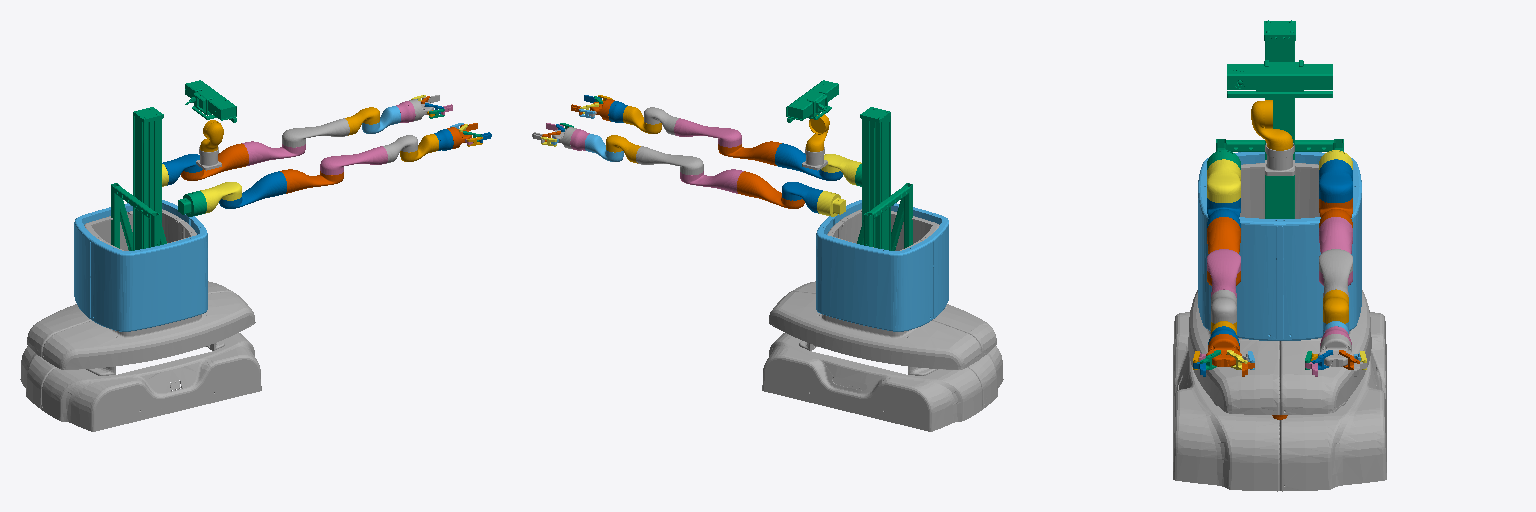
--- Facts derived from the render (not from the file) ---
Views: 3 orthographic renders of the robot side by side, from view 1: azimuth 30°, elevation 25°; view 2: azimuth 150°, elevation 25°; view 3: azimuth 270°, elevation 25°.
Model movo with 56 links and 55 joints (20 revolute, 8 continuous, 2 prismatic, 25 fixed), rooted at base_link, posed all joints at 0.
Links seen in each view (by area): view 1: lower_body_link, mid_body_link, linear_actuator_fixed_link, kinect2_link, right_arm_half_1_link, left_forearm_link, right_forearm_link, left_arm_half_1_link, right_arm_half_2_link, left_arm_half_2_link, right_shoulder_link, left_shoulder_link (+6 smaller); view 2: lower_body_link, mid_body_link, linear_actuator_fixed_link, kinect2_link, left_arm_half_1_link, left_forearm_link, right_forearm_link, right_arm_half_1_link, left_arm_half_2_link, right_arm_half_2_link, left_shoulder_link, right_shoulder_link (+6 smaller); view 3: lower_body_link, mid_body_link, linear_actuator_fixed_link, kinect2_link, left_shoulder_link, right_shoulder_link, right_forearm_link, left_forearm_link, pan_link, left_arm_half_2_link, right_arm_half_2_link, left_wrist_spherical_1_link (+6 smaller).
Boxes of the visible links, bbox=[...] form: lower_body_link: bbox=[20, 209, 261, 431]; mid_body_link: bbox=[74, 200, 207, 331]; linear_actuator_fixed_link: bbox=[111, 107, 166, 250]; kinect2_link: bbox=[185, 80, 236, 122]; right_arm_half_1_link: bbox=[219, 171, 286, 208]; left_forearm_link: bbox=[282, 118, 349, 147]; right_forearm_link: bbox=[320, 146, 387, 174]; left_arm_half_1_link: bbox=[181, 143, 248, 180]; right_arm_half_2_link: bbox=[280, 169, 343, 193]; left_arm_half_2_link: bbox=[242, 141, 305, 165]; right_shoulder_link: bbox=[200, 182, 241, 213]; left_shoulder_link: bbox=[162, 154, 202, 185]; lower_body_link: bbox=[762, 209, 1003, 431]; mid_body_link: bbox=[816, 200, 948, 331]; linear_actuator_fixed_link: bbox=[857, 107, 912, 250]; kinect2_link: bbox=[786, 80, 838, 122]; left_arm_half_1_link: bbox=[737, 171, 804, 208]; left_forearm_link: bbox=[636, 146, 703, 174]; right_forearm_link: bbox=[674, 118, 741, 147]; right_arm_half_1_link: bbox=[775, 143, 842, 180]; left_arm_half_2_link: bbox=[680, 169, 743, 193]; right_arm_half_2_link: bbox=[718, 141, 781, 165]; left_shoulder_link: bbox=[782, 182, 822, 213]; right_shoulder_link: bbox=[821, 154, 861, 185]; lower_body_link: bbox=[1173, 163, 1386, 491]; mid_body_link: bbox=[1198, 152, 1361, 340]; linear_actuator_fixed_link: bbox=[1216, 20, 1343, 218]; kinect2_link: bbox=[1227, 60, 1332, 97]; left_shoulder_link: bbox=[1319, 159, 1352, 202]; right_shoulder_link: bbox=[1207, 159, 1240, 202]; right_forearm_link: bbox=[1207, 249, 1240, 297]; left_forearm_link: bbox=[1319, 249, 1352, 297]; pan_link: bbox=[1251, 100, 1292, 150]; left_arm_half_2_link: bbox=[1319, 217, 1352, 285]; right_arm_half_2_link: bbox=[1207, 217, 1240, 285]; left_wrist_spherical_1_link: bbox=[1323, 289, 1348, 323].
Bounding box of the posed robot: 1.71 × 0.5097 × 1.06 m (x, y, z).
44 mesh visuals loaded from 25 distinct referenced files (21 binary STL); not drawn: 4 (reference not matched to a file when rendering).

The robot description file, URDF, robot "movo":
<?xml version="1.0" ?>

<!-- ================================================================================================ -->
<!-- Note: This URDF file and associated content are based on files from the GitHub repository below. -->
<!--       Geometry files were converted as necessary to a format supported by Simscape Multibody.    -->
<!--       Adjustments were made to the URDF file for compatibility with Simscape Multibody.          -->
<!--                                                                                                  -->
<!--  GitHub source: https://github.com/Kinovarobotics/kinova-movo/tree/v1.1.0                        -->
<!-- ================================================================================================ -->

<!-- =================================================================================== -->
<!-- |    This document was autogenerated by xacro from movo.urdf.xacro                | -->
<!-- |    EDITING THIS FILE BY HAND IS NOT RECOMMENDED                                 | -->
<!-- =================================================================================== -->
<!--
Software License Agreement (BSD)
\file      movo.urdf.xacro
\authors   Patrick Hussey
\copyright Copyright (c) 2017, Kinova Robotics inc. All rights reserved.
Redistribution and use in source and binary forms, with or without modification,
are permitted provided that the following conditions are met:
    * Redistributions of source code must retain the above copyright notice,
      this list of conditions and the following disclaimer.
    * Redistributions in binary form must reproduce the above copyright notice,
      this list of conditions and the following disclaimer in the documentation
      and/or other materials provided with the distribution.
    * Neither the name of the copyright holder nor the names of its contributors
      may be used to endorse or promote products derived from this software
      without specific prior written permission.
THIS SOFTWARE IS PROVIDED BY THE COPYRIGHT HOLDERS AND CONTRIBUTORS 
"AS IS" AND ANY EXPRESS OR IMPLIED WARRANTIES, INCLUDING, BUT NOT 
LIMITED TO, THE IMPLIED WARRANTIES OF MERCHANTABILITY AND FITNESS FOR 
A PARTICULAR PURPOSE ARE DISCLAIMED. IN NO EVENT SHALL THE COPYRIGHT HOLDER OR 
CONTRIBUTORS BE LIABLE FOR ANY DIRECT, INDIRECT, INCIDENTAL, SPECIAL, 
EXEMPLARY, OR CONSEQUENTIAL DAMAGES (INCLUDING, BUT NOT LIMITED TO, 
PROCUREMENT OF SUBSTITUTE GOODS OR SERVICES; LOSS OF USE, DATA, OR 
PROFITS; OR BUSINESS INTERRUPTION) HOWEVER CAUSED AND ON ANY THEORY OF 
LIABILITY, WHETHER IN CONTRACT, STRICT LIABILITY, OR TORT (INCLUDING 
NEGLIGENCE OR OTHERWISE) ARISING IN ANY WAY OUT OF THE USE OF THIS 
SOFTWARE, EVEN IF ADVISED OF THE POSSIBILITY OF SUCH DAMAGE.
-->
<robot name="movo" xmlns:xacro="http://ros.org/wiki/xacro">
  <!-- Included URDF/XACRO Files -->
  <gazebo>
    <plugin filename="libgazebo_ros_control.so" name="gazebo_ros_control">
      <robotNamespace>/</robotNamespace>
    </plugin>
    <plugin filename="libgazebo_ros_force_based_move.so" name="object_controller">
      <robotNamespace>/</robotNamespace>
      <commandTopic>/movo/cmd_vel</commandTopic>
      <odometryTopic>/movo/odometry/wheel_odometry</odometryTopic>
      <odometryFrame>odom</odometryFrame>
      <odometryRate>100.0</odometryRate>
      <cmdVelTimeOut>0.2</cmdVelTimeOut>
      <robotBaseFrame>base_link</robotBaseFrame>
      <publishOdometryTf>0</publishOdometryTf>
      <yaw_velocity_p_gain>500.0</yaw_velocity_p_gain>
      <x_velocity_p_gain>10000.0</x_velocity_p_gain>
      <y_velocity_p_gain>10000.0</y_velocity_p_gain>
    </plugin>
    <plugin filename="libgazebo_ros_p3d.so" name="gazebo_ros_p3d">
      <bodyName>base_link</bodyName>
      <topicName>ground_truth_odom</topicName>
      <alwaysOn>true</alwaysOn>
      <updateRate>100.0</updateRate>
    </plugin>
  </gazebo>
  <!-- Base link is the center of the robot's chassis between the motors projected on the ground -->
  <link name="base_link"/>
  <gazebo reference="base_link">
    <mu1>0.0</mu1>
  </gazebo>
  <joint name="base_chassis_joint" type="fixed">
    <origin rpy="0 0 0" xyz="0 0 0.0762"/>
    <parent link="base_link"/>
    <child link="base_chassis_link"/>
  </joint>
  <link name="base_chassis_link">
    <inertial>
      <mass value="44.2877"/>
      <origin xyz="-0.009506 -0.013039 0.032319"/>
      <inertia ixx="0.000165" ixy="0" ixz="0" iyx="0" iyy="0.000559" iyz="0" izx="0" izy="0" izz="0.000714"/>
    </inertial>
    <collision>
      <geometry>
        <mesh filename="package://movo_description/meshes/movo_components/collision/vector_base_collision.stl"/>
      </geometry>
    </collision>
    <visual>
      <origin rpy="0 0 0" xyz="0 0 0"/>
      <geometry>
        <mesh filename="movo_vector_base.stl"/>
      </geometry>
    </visual>
  </link>
  <gazebo reference="base_chassis_link">
    <laserRetro>0</laserRetro>
  </gazebo>
  <gazebo reference="base_chassis_link">
    <mu1>0.0</mu1>
  </gazebo>
  <joint name="linear_actuator_fixed_joint" type="fixed">
    <origin rpy="0 0 0" xyz="0 0 0"/>
    <parent link="base_chassis_link"/>
    <child link="linear_actuator_fixed_link"/>
  </joint>
  <link name="linear_actuator_fixed_link">
    <inertial>
      <mass value="15.877331"/>
      <origin xyz="0.013724 0.000002 0.509500"/>
      <inertia ixx="0.962473" ixy="0.000047" ixz="0.053722" iyx="0.000047" iyy="0.968691" iyz="-0.000058" izx="0.053722" izy="-0.000058" izz="0.098853"/>
    </inertial>
    <collision>
      <geometry>
        <mesh filename="package://movo_description/meshes/movo_components/collision/movo_fixed_body_collision.stl"/>
      </geometry>
    </collision>
    <visual>
      <origin rpy="0 0 0" xyz="0 0 0"/>
      <geometry>
        <mesh filename="movo_fixed_payload.stl"/>
      </geometry>
    </visual>
  </link>
  <gazebo reference="linear_actuator_fixed_link">
    <laserRetro>0</laserRetro>
  </gazebo>
  <joint name="linear_joint" type="prismatic">
    <parent link="linear_actuator_fixed_link"/>
    <child link="linear_actuator_link"/>
    <origin rpy="0 0 0" xyz="0.0771402 0 0.3938763"/>
    <axis xyz="0 0 1"/>
    <limit effort="1000" lower="0.0" upper="0.472" velocity="0.20"/>
    <dynamics damping="0.0" friction="0.0"/>
  </joint>
  <link name="linear_actuator_link">
    <visual>
      <geometry>
        <mesh filename="movo_moving_payload.stl"/>
      </geometry>
    </visual>
    <collision>
      <geometry>
        <mesh filename="package://movo_description/meshes/movo_components/collision/movo_upper_body_collision.stl"/>
      </geometry>
    </collision>
    <inertial>
      <mass value="12.926242"/>
      <origin xyz="-0.075467 -0.004693 0.397754"/>
      <inertia ixx="0.300410" ixy="-0.010043" ixz="-0.054146" iyx="-0.010043" iyy="0.296460" iyz="-0.024977" izx="-0.054146" izy="-0.024977" izz="0.294778"/>
    </inertial>
  </link>
  <gazebo reference="linear_actuator_link">
    <laserRetro>0</laserRetro>
  </gazebo>
  <transmission name="linear_trans">
    <type>transmission_interface/SimpleTransmission</type>
    <joint name="linear_joint">
      <hardwareInterface>PositionJointInterface</hardwareInterface>
    </joint>
    <actuator name="linear_motor">
      <mechanicalReduction>1</mechanicalReduction>
    </actuator>
  </transmission>
  <link name="sic_imu_frame"/>
  <joint name="sic_imu_joint" type="fixed">
    <origin rpy="3.14159 0 1.570795" xyz="0.0326421 0.0899448 0.0082008"/>
    <parent link="base_chassis_link"/>
    <child link="sic_imu_frame"/>
  </joint>
  <gazebo>
    <plugin filename="libhector_gazebo_ros_imu.so" name="sic_imu_controller">
      <alwaysOn>1</alwaysOn>
      <updateRate>50.0</updateRate>
      <bodyName>sic_imu_frame</bodyName>
      <topicName>/movo/feedback/sic_imu</topicName>
      <accelDrift>0.0005 0.0005 0.0005</accelDrift>
      <accelGaussianNoise>0.0005 0.0005 0.0005</accelGaussianNoise>
      <rateDrift>0.0005 0.0005 0.0005</rateDrift>
      <rateGaussianNoise>0.00005 0.00005 0.00005 </rateGaussianNoise>
      <headingDrift>0.00005</headingDrift>
      <headingGaussianNoise>0.00005</headingGaussianNoise>
    </plugin>
  </gazebo>
  <joint name="front_laser_joint" type="fixed">
    <origin rpy="3.14159 0 0" xyz="0.3375 0 0.1439106"/>
    <parent link="base_chassis_link"/>
    <child link="front_laser_link"/>
  </joint>
  <link name="front_laser_link">
    <visual>
      <geometry>
        <mesh filename="movo_sick_tim.stl"/>
      </geometry>
    </visual>
    <collision>
      <geometry>
        <box size="0.1 0.1 0.1"/>
      </geometry>
    </collision>
  </link>
  <gazebo reference="front_laser_link">
    <sensor name="front_laser" type="ray">
      <pose>0 0 0 0 0 0</pose>
      <visualize>false</visualize>
      <update_rate>15</update_rate>
      <ray>
        <scan>
          <horizontal>
            <samples>720</samples>
            <resolution>1</resolution>
            <min_angle>-2.0</min_angle>
            <max_angle>2.0</max_angle>
          </horizontal>
        </scan>
        <range>
          <min>0.1</min>
          <max>25.0</max>
          <resolution>0.01</resolution>
        </range>
        <noise>
          <type>gaussian</type>
          <mean>0.0</mean>
          <stddev>0.01</stddev>
        </noise>
      </ray>
      <plugin filename="libgazebo_ros_laser.so" name="front_laser_node">
        <topicName>/movo/front_scan</topicName>
        <frameName>front_laser_link</frameName>
      </plugin>
    </sensor>
  </gazebo>
  <joint name="rear_laser_joint" type="fixed">
    <origin rpy="3.14159 0 3.14159" xyz="-0.3375 0 0.1439106"/>
    <parent link="base_chassis_link"/>
    <child link="rear_laser_link"/>
  </joint>
  <link name="rear_laser_link">
    <visual>
      <geometry>
        <mesh filename="movo_sick_tim.stl"/>
      </geometry>
    </visual>
    <collision>
      <geometry>
        <box size="0.1 0.1 0.1"/>
      </geometry>
    </collision>
  </link>
  <gazebo reference="rear_laser_link">
    <sensor name="rear_laser" type="ray">
      <pose>0 0 0 0 0 0</pose>
      <visualize>false</visualize>
      <update_rate>15</update_rate>
      <ray>
        <scan>
          <horizontal>
            <samples>720</samples>
            <resolution>1</resolution>
            <min_angle>-2.0</min_angle>
            <max_angle>2.0</max_angle>
          </horizontal>
        </scan>
        <range>
          <min>0.1</min>
          <max>25.0</max>
          <resolution>0.01</resolution>
        </range>
        <noise>
          <type>gaussian</type>
          <mean>0.0</mean>
          <stddev>0.01</stddev>
        </noise>
      </ray>
      <plugin filename="libgazebo_ros_laser.so" name="rear_laser_node">
        <topicName>/movo/rear_scan</topicName>
        <frameName>rear_laser_link</frameName>
      </plugin>
    </sensor>
  </gazebo>
  <joint name="pan_base_joint" type="fixed">
    <origin rpy="0 0 0" xyz="0.19735 0 0.3449888"/>
    <parent link="linear_actuator_link"/>
    <child link="pan_base_link"/>
  </joint>
  <link name="pan_base_link">
    <visual>
      <geometry>
        <mesh filename="movo_pan_tilt_base.stl"/>
      </geometry>
    </visual>
    <collision>
      <geometry>
        <mesh filename="package://movo_description/meshes/pan_tilt/collision/pan_tilt_base.stl"/>
      </geometry>
    </collision>
    <inertial>
      <mass value="0.271282"/>
      <origin xyz="0.000098 -0.000007 0.034804"/>
      <inertia ixx="0.000158" ixy="0.000000" ixz="-0.000001" iyx="0.000000" iyy="0.000151" iyz="0.000000" izx="-0.000001" izy="0.000000" izz="0.000150"/>
    </inertial>
  </link>
  <joint name="pan_joint" type="revolute">
    <origin rpy="3.14159 0 0" xyz="0 0 0.05525"/>
    <axis xyz="0 0 1"/>
    <parent link="pan_base_link"/>
    <child link="pan_link"/>
    <limit effort="7.0" lower="-1.570796326794897" upper="1.570796326794897" velocity="0.907571211"/>
  </joint>
  <transmission name="pan_trans" type="SimpleTransmission">
    <type>transmission_interface/SimpleTransmission</type>
    <joint name="pan_joint">
      <hardwareInterface>PositionJointInterface</hardwareInterface>
    </joint>
    <actuator name="pan_actuator">
      <mechanicalReduction>1</mechanicalReduction>
    </actuator>
  </transmission>
  <link name="pan_link">
    <visual>
      <geometry>
        <mesh filename="movo_pan_link.stl"/>
      </geometry>
    </visual>
    <collision>
      <origin rpy="0 0 0" xyz="0 0 0"/>
      <geometry>
        <mesh filename="package://movo_description/meshes/pan_tilt/collision/pan_link.stl"/>
      </geometry>
    </collision>
    <inertial>
      <mass value="0.470548"/>
      <origin xyz="-0.000036 0.021015 -0.052191"/>
      <inertia ixx="0.000957" ixy="0.000000" ixz="0.000000" iyx="0.000000" iyy="0.000805" iyz="-0.000328" izx="0.000000" izy="-0.000328" izz="0.000353"/>
    </inertial>
  </link>
  <joint name="tilt_joint" type="revolute">
    <origin rpy="-1.570795 1.570795 0" xyz="0 0.026 -0.09075"/>
    <axis xyz="0 0 1"/>
    <parent link="pan_link"/>
    <child link="tilt_link"/>
    <limit effort="7.0" lower="-1.570796326794897" upper="1.570796326794897" velocity="0.907571211"/>
  </joint>
  <transmission name="tilt_trans" type="SimpleTransmission">
    <type>transmission_interface/SimpleTransmission</type>
    <joint name="tilt_joint">
      <hardwareInterface>PositionJointInterface</hardwareInterface>
    </joint>
    <actuator name="tilt_actuator">
      <mechanicalReduction>1</mechanicalReduction>
    </actuator>
  </transmission>
  <link name="tilt_link">
    <visual>
      <geometry>
        <mesh filename="movo_tilt_link.stl"/>
      </geometry>
    </visual>
    <collision>
      <geometry>
        <mesh filename="package://movo_description/meshes/pan_tilt/collision/tilt_link.stl"/>
      </geometry>
    </collision>
    <inertial>
      <mass value="0.434513"/>
      <origin xyz="0.037380 0.005753 -0.019367"/>
      <inertia ixx="0.000418" ixy="0.000123" ixz="-0.000065" iyx="0.000123" iyy="0.001134" iyz="-0.000003" izx="-0.000065" izy="-0.000003" izz="0.000967"/>
    </inertial>
  </link>
  <joint name="kinect2_joint" type="fixed">
    <origin rpy="-1.570795 0 -1.570795" xyz="0.05825 -0.0105875 -0.026"/>
    <parent link="tilt_link"/>
    <child link="kinect2_link"/>
  </joint>
  <link name="kinect2_link">
    <inertial>
      <mass value="1.4"/>
      <origin xyz="-0.000036 0.021015 -0.052191"/>
      <inertia ixx="0.0006835" ixy="-0.000042" ixz="0.000010" iyx="-0.000042" iyy="0.001197" iyz="0.000006" izx="0.000010" izy="0.000006" izz="0.007020"/>
    </inertial>
    <visual>
      <geometry>
        <mesh filename="movo_kinect_one.stl"/>
      </geometry>
    </visual>
    <collision>
      <geometry>
        <mesh filename="package://movo_description/meshes/sensors/collision/kinect_one_collision.stl"/>
      </geometry>
    </collision>
  </link>
  <link name="kinect2_ir_link"/>
  <joint name="kinect2_ir_joint" type="fixed">
    <parent link="kinect2_link"/>
    <child link="kinect2_ir_link"/>
    <origin rpy="0 0 0" xyz="0.0245 -0.03325  0.04201"/>
  </joint>
  <link name="kinect2_ir_optical_frame"/>
  <joint name="kinect2_ir_optical_frame_joint" type="fixed">
    <origin rpy="-1.570795 0 -1.570795" xyz="0 0 0"/>
    <parent link="kinect2_ir_link"/>
    <child link="kinect2_ir_optical_frame"/>
  </joint>
  <link name="kinect2_rgb_link"/>
  <joint name="kinect2_rgb_joint" type="fixed">
    <parent link="kinect2_ir_link"/>
    <child link="kinect2_rgb_link"/>
    <origin rpy="0 0 0" xyz="0 -0.06175  0"/>
  </joint>
  <link name="kinect2_rgb_optical_frame"/>
  <joint name="kinect2_rgb_optical_joint" type="fixed">
    <parent link="kinect2_rgb_link"/>
    <child link="kinect2_rgb_optical_frame"/>
    <origin rpy="-1.570795 0 -1.570795" xyz="0 0 0"/>
  </joint>
  <gazebo reference="kinect2_ir_link">
    <sensor name="kinect2_ir_sensor" type="depth">
      <always_on>true</always_on>
      <update_rate>30.0</update_rate>
      <camera>
        <horizontal_fov>1.22172944444</horizontal_fov>
        <image>
          <format>L8</format>
          <width>512</width>
          <height>424</height>
        </image>
        <clip>
          <near>0.01</near>
          <far>100</far>
        </clip>
      </camera>
      <plugin filename="libgazebo_ros_openni_kinect.so" name="kinect2_ir_link_controller">
        <baseline>0.2</baseline>
        <alwaysOn>true</alwaysOn>
        <updateRate>1.0</updateRate>
        <cameraName>kinect2/sd/image_ir</cameraName>
        <imageTopicName>/kinect2/sd/image_ir</imageTopicName>
        <cameraInfoTopicName>/kinect2/sd/camera_info</cameraInfoTopicName>
        <depthImageTopicName>/kinect2/sd/image_depth</depthImageTopicName>
        <depthImageCameraInfoTopicName>/kinect2/sd/depth/camera_info</depthImageCameraInfoTopicName>
        <pointCloudTopicName>/kinect2/sd/points</pointCloudTopicName>
        <frameName>kinect2_ir_optical_frame</frameName>
        <pointCloudCutoff>0.1</pointCloudCutoff>
        <pointCloudCutoffMax>12.0</pointCloudCutoffMax>
        <distortionK1>0.0</distortionK1>
        <distortionK2>0.0</distortionK2>
        <distortionK3>0.0</distortionK3>
        <distortionT1>0.0</distortionT1>
        <distortionT2>0.0</distortionT2>
        <CxPrime>0</CxPrime>
        <Cx>0</Cx>
        <Cy>0</Cy>
        <focalLength>0</focalLength>
        <hackBaseline>0</hackBaseline>
      </plugin>
    </sensor>
    <material value="Gazebo/Red"/>
  </gazebo>
   <joint name="lower_body_joint" type="fixed">
    <origin rpy="0 0 0" xyz="0 0 0"/>
    <parent link="base_chassis_link"/>
    <child link="lower_body_link"/>
  </joint>
  <link name="lower_body_link">
    <inertial>
      <mass value="7.753378"/>
      <origin xyz="0.000143 0.000727 0.188079"/>
      <inertia ixx="0.339365" ixy="0.000325" ixz="0.000146" iyx="0.000325" iyy="0.590290" iyz="-0.001078" izx="0.000146" izy="-0.001078" izz="0.588946"/>
    </inertial>
    <visual>
      <origin rpy="0 0 0" xyz="0 0 0"/>
      <geometry>
        <mesh filename="movo_lower_body.stl"/>
      </geometry>
    </visual>
  </link>
  <joint name="upper_body_joint" type="fixed">
    <origin rpy="0 0 0" xyz="0 0 0"/>
    <parent link="linear_actuator_link"/>
    <child link="upper_body_link"/>
  </joint>
  <link name="upper_body_link">
    <inertial>
      <mass value="6.246912"/>
      <origin xyz="-0.080608 0.000290 0.286026"/>
      <inertia ixx="0.425973" ixy="0.000022" ixz="-0.015916" iyx="0.000022" iyy="0.439921" iyz="-0.000555" izx="-0.015916" izy="-0.000555" izz="0.305785"/>
    </inertial>
    <visual>
      <origin rpy="0 0 0" xyz="0 0 0"/>
      <geometry>
        <mesh filename="movo_upper_body.stl"/>
      </geometry>
    </visual>
  </link>
  <joint name="mid_body_joint" type="prismatic">
    <parent link="base_chassis_link"/>
    <child link="mid_body_link"/>
    <origin rpy="0 0 0" xyz="0.0771402 0 0.3938763"/>
    <axis xyz="0 0 1"/>
    <limit effort="1000" lower="0.0" upper="0.2545608" velocity="0.20"/>
    <dynamics damping="0.0" friction="0.0"/>
    <mimic joint="linear_joint" multiplier="0.5" offset="0.0"/>
  </joint>
  <link name="mid_body_link">
    <inertial>
      <mass value="2.246837"/>
      <origin xyz="-0.077140 0.000000 0.026602"/>
      <inertia ixx="0.067276" ixy="0.000000" ixz="0.000000" iyx="0.000000" iyy="0.073946" iyz="0.000000" izx="0.000000" izy="0.000000" izz="0.102656"/>
    </inertial>
    <visual>
      <origin rpy="0 0 0" xyz="0 0 0"/>
      <geometry>
        <mesh filename="movo_mid_body.stl"/>
      </geometry>
    </visual>
  </link>
  <gazebo reference="mid_body_link">
    <gravity>0</gravity>
  </gazebo>
  <gazebo>
    <!-- loading plugin: mimic joints works in gazebo now -->
    <plugin filename="libroboticsgroup_gazebo_mimic_joint_plugin.so" name="mid_body_mimic">
      <joint>linear_joint</joint>
      <mimicJoint>mid_body_joint</mimicJoint>
      <multiplier>0.5</multiplier>
      <offset>0.0</offset>
      <maxEffort>100000.0</maxEffort>
    </plugin>
  </gazebo>
 <joint name="right_kinova_joint" type="fixed">
    <parent link="linear_actuator_link"/>
    <child link="right_base_link"/>
    <origin rpy="-1.570796325 0 -1.570796325" xyz="0.0261046 -0.13335 0.2799937"/>
  </joint>
  <link name="right_base_link">
    <visual>
      <geometry>
        <mesh filename="movo_base.stl"/>
      </geometry>
    </visual>
    <collision>
      <geometry>
        <mesh filename="package://movo_description/meshes/manipulation/jaco/collision/base.stl"/>
      </geometry>
    </collision>
    <inertial>
      <mass value="0.649618"/>
      <origin xyz="-0.000146 0.0 0.031039"/>
      <inertia ixx="0.000652" ixy="-0.000000" ixz="0.000001" iyx="0.000000" iyy="0.000646" iyz="0.000000" izx="0.000001" izy="0.000000" izz="0.000480"/>
    </inertial>
  </link>
  <gazebo reference="right_base_link">
    <implicitSpringDamper>1</implicitSpringDamper>
    <kp>1000000.0</kp>
    <kd>100.0</kd>
    <mu1>1.0</mu1>
    <mu2>1.0</mu2>
    <maxVel>100.0</maxVel>
    <minDepth>0.001</minDepth>
  </gazebo>
  <joint name="right_shoulder_pan_joint" type="revolute">
    <parent link="right_base_link"/>
    <child link="right_shoulder_link"/>
    <origin rpy="0 3.14159265 0" xyz="0 0 0.0625"/>
    <axis xyz="0 0 1"/>
    <limit effort="18000.0" lower="-3.14159265" upper="3.14159265" velocity="0.691150384"/>
    <dynamics damping="0.01" friction="0.0"/>
  </joint>
  <link name="right_shoulder_link">
    <visual>
      <geometry>
        <mesh filename="movo_shoulder_7dof.stl"/>
      </geometry>
    </visual>
    <collision>
      <geometry>
        <mesh filename="package://movo_description/meshes/manipulation/jaco/collision/shoulder_7dof.stl"/>
      </geometry>
    </collision>
    <inertial>
      <mass value="0.824524"/>
      <origin xyz="0.000018 -0.004667 -0.060609"/>
      <inertia ixx="0.002561" ixy="0.000000" ixz="0.000001" iyx="0.000000" iyy="0.002653" iyz="0.000212" izx="0.000001" izy="0.000212" izz="0.000524"/>
    </inertial>
  </link>
  <gazebo reference="right_shoulder_link">
    <implicitSpringDamper>1</implicitSpringDamper>
    <kp>1000000.0</kp>
    <kd>100.0</kd>
    <mu1>1.0</mu1>
    <mu2>1.0</mu2>
    <maxVel>100.0</maxVel>
    <minDepth>0.001</minDepth>
  </gazebo>
  <joint name="right_shoulder_lift_joint" type="revolute">
    <parent link="right_shoulder_link"/>
    <child link="right_arm_half_1_link"/>
    <origin rpy="1.570796325 0 0" xyz="0 0 -0.11875"/>
    <axis xyz="0 0 1"/>
    <limit effort="30000.5" lower="-2.238" upper="2.238" velocity="0.691150384"/>
    <dynamics damping="0.01" friction="0.0"/>
  </joint>
  <link name="right_arm_half_1_link">
    <visual>
      <geometry>
        <mesh filename="movo_arm_half_1.stl"/>
      </geometry>
    </visual>
    <collision>
      <geometry>
        <mesh filename="package://movo_description/meshes/manipulation/jaco/collision/arm_half_1.stl"/>
      </geometry>
    </collision>
    <inertial>
      <mass value="0.8447"/>
      <origin xyz="0 -0.103563213 0"/>
      <inertia ixx="0.000435" ixy="0.000002" ixz="0.000231" iyx="0.000002" iyy="0.034947" iyz="0.000000" izx="0.000231" izy="0.000000" izz="0.035198"/>
    </inertial>
  </link>
  <gazebo reference="right_arm_half_1_link">
    <implicitSpringDamper>1</implicitSpringDamper>
    <kp>1000000.0</kp>
    <kd>100.0</kd>
    <mu1>1.0</mu1>
    <mu2>1.0</mu2>
    <maxVel>100.0</maxVel>
    <minDepth>0.001</minDepth>
  </gazebo>
  <joint name="right_arm_half_joint" type="revolute">
    <parent link="right_arm_half_1_link"/>
    <child link="right_arm_half_2_link"/>
    <origin rpy="-1.570796325 0 0" xyz="0 -0.205 0"/>
    <axis xyz="0 0 1"/>
    <limit effort="30000.5" lower="-3.14159265" upper="3.14159265" velocity="0.691150384"/>
    <dynamics damping="0.01" friction="0.0"/>
  </joint>
  <link name="right_arm_half_2_link">
    <visual>
      <geometry>
        <mesh filename="movo_arm_half_2.stl"/>
      </geometry>
    </visual>
    <collision>
      <geometry>
        <mesh filename="package://movo_description/meshes/manipulation/jaco/collision/arm_half_2.stl"/>
      </geometry>
    </collision>
    <inertial>
      <mass value="0.8447"/>
      <origin xyz="0 0 -0.1022447445"/>
      <inertia ixx="0.000435" ixy="0.000002" ixz="0.000231" iyx="0.000002" iyy="0.034947" iyz="0.000000" izx="0.000231" izy="0.000000" izz="0.035198"/>
    </inertial>
  </link>
  <gazebo reference="right_arm_half_2_link">
    <implicitSpringDamper>1</implicitSpringDamper>
    <kp>1000000.0</kp>
    <kd>100.0</kd>
    <mu1>1.0</mu1>
    <mu2>1.0</mu2>
    <maxVel>100.0</maxVel>
    <minDepth>0.001</minDepth>
  </gazebo>
  <joint name="right_elbow_joint" type="revolute">
    <parent link="right_arm_half_2_link"/>
    <child link="right_forearm_link"/>
    <origin rpy="-1.570796325 0 0" xyz="0 0 -0.205"/>
    <axis xyz="0 0 1"/>
    <limit effort="18000.0" lower="-2.809" upper="2.809" velocity="0.691150384"/>
    <dynamics damping="0.01" friction="0.0"/>
  </joint>
  <link name="right_forearm_link">
    <visual>
      <geometry>
        <mesh filename="movo_forearm_7dof.stl"/>
      </geometry>
    </visual>
    <collision>
      <geometry>
        <mesh filename="package://movo_description/meshes/manipulation/jaco/collision/forearm_7dof.stl"/>
      </geometry>
    </collision>
    <inertial>
      <mass value="0.674254"/>
      <origin xyz="0 0.081 -0.0086"/>
      <inertia ixx="0.005453" ixy="0.000003" ixz="0.000000" iyx="0.000003" iyy="0.000305" iyz="0.000087" izx="0.000000" izy="0.000087" izz="0.005578"/>
    </inertial>
  </link>
  <joint name="right_wrist_spherical_1_joint" type="revolute">
    <parent link="right_forearm_link"/>
    <child link="right_wrist_spherical_1_link"/>
    <!--  <origin xyz="0 0.20725 0 " rpy="${wrist_spherical_1_joint_rpy}" /> -->
    <origin rpy="1.570796325 3.14159265 0" xyz="0 0.2073 -0.0114"/>
    <axis xyz="0 0 1"/>
    <limit effort="60000.8" lower="-3.14159265" upper="3.14159265" velocity="0.921533845"/>
    <dynamics damping="0.01" friction="0.0"/>
  </joint>
  <link name="right_wrist_spherical_1_link">
    <visual>
      <geometry>
        <mesh filename="movo_wrist_spherical_1.stl"/>
      </geometry>
    </visual>
    <collision>
      <geometry>
        <mesh filename="package://movo_description/meshes/manipulation/jaco/collision/wrist_spherical_1.stl"/>
      </geometry>
    </collision>
    <inertial>
      <mass value="0.463"/>
      <origin xyz="0 0.0028848942 -0.0541932613"/>
      <inertia ixx="0.000392" ixy="0.000000" ixz="0.000000" iyx="0.000000" iyy="0.000347" iyz="0.000101" izx="0.000000" izy="0.000101" izz="0.000233"/>
    </inertial>
  </link>
  <gazebo reference="right_wrist_spherical_1_link">
    <implicitSpringDamper>1</implicitSpringDamper>
    <kp>1000000.0</kp>
    <kd>100.0</kd>
    <mu1>1.0</mu1>
    <mu2>1.0</mu2>
    <maxVel>100.0</maxVel>
    <minDepth>0.001</minDepth>
  </gazebo>
  <joint name="right_wrist_spherical_2_joint" type="revolute">
    <parent link="right_wrist_spherical_1_link"/>
    <child link="right_wrist_spherical_2_link"/>
    <origin rpy="-1.570796325 0 0" xyz="0 0 -0.10375 "/>
    <axis xyz="0 0 1"/>
    <limit effort="60000.8" lower="-2.78" upper="2.78" velocity="0.921533845"/>
    <dynamics damping="0.01" friction="0.0"/>
  </joint>
  <link name="right_wrist_spherical_2_link">
    <visual>
      <geometry>
        <mesh filename="movo_wrist_spherical_2.stl"/>
      </geometry>
    </visual>
    <collision>
      <geometry>
        <mesh filename="package://movo_description/meshes/manipulation/jaco/collision/wrist_spherical_2.stl"/>
      </geometry>
    </collision>
    <inertial>
      <mass value="0.463"/>
      <origin xyz="0 0.0497208855 -0.0028562765"/>
      <inertia ixx="0.000392" ixy="0.000000" ixz="0.000000" iyx="0.000000" iyy="0.000347" iyz="0.000101" izx="0.000000" izy="0.000101" izz="0.000233"/>
    </inertial>
  </link>
  <gazebo reference="right_wrist_spherical_2_link">
    <implicitSpringDamper>1</implicitSpringDamper>
    <kp>1000000.0</kp>
    <kd>100.0</kd>
    <mu1>1.0</mu1>
    <mu2>1.0</mu2>
    <maxVel>100.0</maxVel>
    <minDepth>0.001</minDepth>
  </gazebo>
  <joint name="right_wrist_3_joint" type="revolute">
    <parent link="right_wrist_spherical_2_link"/>
    <child link="right_wrist_3_link"/>
    <origin rpy="1.570796325 3.14159265 0" xyz="0 0.10375 0"/>
    <axis xyz="0 0 1"/>
    <limit effort="60000.8" lower="-3.14159265" upper="3.14159265" velocity="0.921533845"/>
    <dynamics damping="0.01" friction="0.0"/>
  </joint>
  <link name="right_wrist_3_link">
    <visual>
      <geometry>
        <mesh filename="movo_kinova_actuator_gearing.stl"/>
      </geometry>
    </visual>
    <collision>
      <geometry>
        <mesh filename="package://movo_description/meshes/manipulation/jaco/collision/kinova_actuator_gearing.stl"/>
      </geometry>
    </collision>
    <inertial>
      <mass value="0.190782"/>
      <origin xyz="-0.00082 0.000048 -0.216121"/>
      <inertia ixx="0.000048" ixy="0.000000" ixz="0.000000" iyx="0.000000" iyy="0.000049" iyz="0.000000" izx="0.000000" izy="0.000000" izz="0.000072"/>
    </inertial>
  </link>
  <gazebo reference="right_wrist_3_link">
    <implicitSpringDamper>1</implicitSpringDamper>
    <kp>1000000.0</kp>
    <kd>100.0</kd>
    <mu1>1.0</mu1>
    <mu2>1.0</mu2>
    <maxVel>100.0</maxVel>
    <minDepth>0.001</minDepth>
  </gazebo>
  <joint name="right_ee_fixed_joint" type="fixed">
    <parent link="right_wrist_3_link"/>
    <child link="right_ee_link"/>
    <origin rpy="3.14159265 1.570796325 0" xyz="0 0 -0.1600"/>
  </joint>
  <link name="right_ee_link"/>
  <transmission name="right_shoulder_pan_trans">
    <type>transmission_interface/SimpleTransmission</type>
    <joint name="right_shoulder_pan_joint">
      <hardwareInterface>PositionJointInterface</hardwareInterface>
    </joint>
    <actuator name="right_shoulder_pan_motor">
      <mechanicalReduction>1</mechanicalReduction>
    </actuator>
  </transmission>
  <transmission name="right_shoulder_lift_trans">
    <type>transmission_interface/SimpleTransmission</type>
    <joint name="right_shoulder_lift_joint">
      <hardwareInterface>PositionJointInterface</hardwareInterface>
    </joint>
    <actuator name="right_shoulder_lift_motor">
      <mechanicalReduction>1</mechanicalReduction>
    </actuator>
  </transmission>
  <transmission name="right_half_arm_trans">
    <type>transmission_interface/SimpleTransmission</type>
    <joint name="right_arm_half_joint">
      <hardwareInterface>PositionJointInterface</hardwareInterface>
    </joint>
    <actuator name="right_arm_half_motor">
      <mechanicalReduction>1</mechanicalReduction>
    </actuator>
  </transmission>
  <transmission name="right_elbow_trans">
    <type>transmission_interface/SimpleTransmission</type>
    <joint name="right_elbow_joint">
      <hardwareInterface>PositionJointInterface</hardwareInterface>
    </joint>
    <actuator name="right_elbow_motor">
      <mechanicalReduction>1</mechanicalReduction>
    </actuator>
  </transmission>
  <transmission name="right_wrist_spherical_1_trans">
    <type>transmission_interface/SimpleTransmission</type>
    <joint name="right_wrist_spherical_1_joint">
      <hardwareInterface>PositionJointInterface</hardwareInterface>
    </joint>
    <actuator name="right_wrist_spherical_1_motor">
      <mechanicalReduction>1</mechanicalReduction>
    </actuator>
  </transmission>
  <transmission name="right_wrist_spherical_2_trans">
    <type>transmission_interface/SimpleTransmission</type>
    <joint name="right_wrist_spherical_2_joint">
      <hardwareInterface>PositionJointInterface</hardwareInterface>
    </joint>
    <actuator name="right_wrist_spherical_2_motor">
      <mechanicalReduction>1</mechanicalReduction>
    </actuator>
  </transmission>
  <transmission name="right_wrist_3_trans">
    <type>transmission_interface/SimpleTransmission</type>
    <joint name="right_wrist_3_joint">
      <hardwareInterface>PositionJointInterface</hardwareInterface>
    </joint>
    <actuator name="right_wrist_3_motor">
      <mechanicalReduction>1</mechanicalReduction>
    </actuator>
  </transmission>
  <joint name="left_kinova_joint" type="fixed">
    <parent link="linear_actuator_link"/>
    <child link="left_base_link"/>
    <origin rpy="-1.570796325 0 -1.570796325" xyz="0.0261046 0.13335 0.2799937"/>
  </joint>
  <link name="left_base_link">
    <visual>
      <geometry>
        <mesh filename="movo_base.stl"/>
      </geometry>
    </visual>
    <collision>
      <geometry>
        <mesh filename="package://movo_description/meshes/manipulation/jaco/collision/base.stl"/>
      </geometry>
    </collision>
    <inertial>
      <mass value="0.649618"/>
      <origin xyz="-0.000146 0.0 0.031039"/>
      <inertia ixx="0.000652" ixy="-0.000000" ixz="0.000001" iyx="0.000000" iyy="0.000646" iyz="0.000000" izx="0.000001" izy="0.000000" izz="0.000480"/>
    </inertial>
  </link>
  <gazebo reference="left_base_link">
    <implicitSpringDamper>1</implicitSpringDamper>
    <kp>1000000.0</kp>
    <kd>100.0</kd>
    <mu1>1.0</mu1>
    <mu2>1.0</mu2>
    <maxVel>100.0</maxVel>
    <minDepth>0.001</minDepth>
  </gazebo>
  <joint name="left_shoulder_pan_joint" type="revolute">
    <parent link="left_base_link"/>
    <child link="left_shoulder_link"/>
    <origin rpy="0 3.14159265 0" xyz="0 0 0.0625"/>
    <axis xyz="0 0 1"/>
    <limit effort="18000.0" lower="-3.14159265" upper="3.14159265" velocity="0.691150384"/>
    <dynamics damping="0.01" friction="0.0"/>
  </joint>
  <link name="left_shoulder_link">
    <visual>
      <geometry>
        <mesh filename="movo_shoulder_7dof.stl"/>
      </geometry>
    </visual>
    <collision>
      <geometry>
        <mesh filename="package://movo_description/meshes/manipulation/jaco/collision/shoulder_7dof.stl"/>
      </geometry>
    </collision>
    <inertial>
      <mass value="0.824524"/>
      <origin xyz="0.000018 -0.004667 -0.060609"/>
      <inertia ixx="0.002561" ixy="0.000000" ixz="0.000001" iyx="0.000000" iyy="0.002653" iyz="0.000212" izx="0.000001" izy="0.000212" izz="0.000524"/>
    </inertial>
  </link>
  <gazebo reference="left_shoulder_link">
    <implicitSpringDamper>1</implicitSpringDamper>
    <kp>1000000.0</kp>
    <kd>100.0</kd>
    <mu1>1.0</mu1>
    <mu2>1.0</mu2>
    <maxVel>100.0</maxVel>
    <minDepth>0.001</minDepth>
  </gazebo>
  <joint name="left_shoulder_lift_joint" type="revolute">
    <parent link="left_shoulder_link"/>
    <child link="left_arm_half_1_link"/>
    <origin rpy="1.570796325 0 0" xyz="0 0 -0.11875"/>
    <axis xyz="0 0 1"/>
    <limit effort="30000.5" lower="-2.238" upper="2.238" velocity="0.691150384"/>
    <dynamics damping="0.01" friction="0.0"/>
  </joint>
  <link name="left_arm_half_1_link">
    <visual>
      <geometry>
        <mesh filename="movo_arm_half_1.stl"/>
      </geometry>
    </visual>
    <collision>
      <geometry>
        <mesh filename="package://movo_description/meshes/manipulation/jaco/collision/arm_half_1.stl"/>
      </geometry>
    </collision>
    <inertial>
      <mass value="0.8447"/>
      <origin xyz="0 -0.103563213 0"/>
      <inertia ixx="0.000435" ixy="0.000002" ixz="0.000231" iyx="0.000002" iyy="0.034947" iyz="0.000000" izx="0.000231" izy="0.000000" izz="0.035198"/>
    </inertial>
  </link>
  <gazebo reference="left_arm_half_1_link">
    <implicitSpringDamper>1</implicitSpringDamper>
    <kp>1000000.0</kp>
    <kd>100.0</kd>
    <mu1>1.0</mu1>
    <mu2>1.0</mu2>
    <maxVel>100.0</maxVel>
    <minDepth>0.001</minDepth>
  </gazebo>
  <joint name="left_arm_half_joint" type="revolute">
    <parent link="left_arm_half_1_link"/>
    <child link="left_arm_half_2_link"/>
    <origin rpy="-1.570796325 0 0" xyz="0 -0.205 0"/>
    <axis xyz="0 0 1"/>
    <limit effort="30000.5" lower="-3.14159265" upper="3.14159265" velocity="0.691150384"/>
    <dynamics damping="0.01" friction="0.0"/>
  </joint>
  <link name="left_arm_half_2_link">
    <visual>
      <geometry>
        <mesh filename="movo_arm_half_2.stl"/>
      </geometry>
    </visual>
    <collision>
      <geometry>
        <mesh filename="package://movo_description/meshes/manipulation/jaco/collision/arm_half_2.stl"/>
      </geometry>
    </collision>
    <inertial>
      <mass value="0.8447"/>
      <origin xyz="0 0 -0.1022447445"/>
      <inertia ixx="0.000435" ixy="0.000002" ixz="0.000231" iyx="0.000002" iyy="0.034947" iyz="0.000000" izx="0.000231" izy="0.000000" izz="0.035198"/>
    </inertial>
  </link>
  <gazebo reference="left_arm_half_2_link">
    <implicitSpringDamper>1</implicitSpringDamper>
    <kp>1000000.0</kp>
    <kd>100.0</kd>
    <mu1>1.0</mu1>
    <mu2>1.0</mu2>
    <maxVel>100.0</maxVel>
    <minDepth>0.001</minDepth>
  </gazebo>
  <joint name="left_elbow_joint" type="revolute">
    <parent link="left_arm_half_2_link"/>
    <child link="left_forearm_link"/>
    <origin rpy="-1.570796325 0 0" xyz="0 0 -0.205"/>
    <axis xyz="0 0 1"/>
    <limit effort="18000.0" lower="-2.809" upper="2.809" velocity="0.691150384"/>
    <dynamics damping="0.01" friction="0.0"/>
  </joint>
  <link name="left_forearm_link">
    <visual>
      <geometry>
        <mesh filename="movo_forearm_7dof.stl"/>
      </geometry>
    </visual>
    <collision>
      <geometry>
        <mesh filename="package://movo_description/meshes/manipulation/jaco/collision/forearm_7dof.stl"/>
      </geometry>
    </collision>
    <inertial>
      <mass value="0.674254"/>
      <origin xyz="0 0.081 -0.0086"/>
      <inertia ixx="0.005453" ixy="0.000003" ixz="0.000000" iyx="0.000003" iyy="0.000305" iyz="0.000087" izx="0.000000" izy="0.000087" izz="0.005578"/>
    </inertial>
  </link>
  <joint name="left_wrist_spherical_1_joint" type="revolute">
    <parent link="left_forearm_link"/>
    <child link="left_wrist_spherical_1_link"/>
    <!--  <origin xyz="0 0.20725 0 " rpy="${wrist_spherical_1_joint_rpy}" /> -->
    <origin rpy="1.570796325 3.14159265 0" xyz="0 0.2073 -0.0114"/>
    <axis xyz="0 0 1"/>
    <limit effort="60000.8" lower="-3.14159265" upper="3.14159265" velocity="0.921533845"/>
    <dynamics damping="0.01" friction="0.0"/>
  </joint>
  <link name="left_wrist_spherical_1_link">
    <visual>
      <geometry>
        <mesh filename="movo_wrist_spherical_1.stl"/>
      </geometry>
    </visual>
    <collision>
      <geometry>
        <mesh filename="package://movo_description/meshes/manipulation/jaco/collision/wrist_spherical_1.stl"/>
      </geometry>
    </collision>
    <inertial>
      <mass value="0.463"/>
      <origin xyz="0 0.0028848942 -0.0541932613"/>
      <inertia ixx="0.000392" ixy="0.000000" ixz="0.000000" iyx="0.000000" iyy="0.000347" iyz="0.000101" izx="0.000000" izy="0.000101" izz="0.000233"/>
    </inertial>
  </link>
  <gazebo reference="left_wrist_spherical_1_link">
    <implicitSpringDamper>1</implicitSpringDamper>
    <kp>1000000.0</kp>
    <kd>100.0</kd>
    <mu1>1.0</mu1>
    <mu2>1.0</mu2>
    <maxVel>100.0</maxVel>
    <minDepth>0.001</minDepth>
  </gazebo>
  <joint name="left_wrist_spherical_2_joint" type="revolute">
    <parent link="left_wrist_spherical_1_link"/>
    <child link="left_wrist_spherical_2_link"/>
    <origin rpy="-1.570796325 0 0" xyz="0 0 -0.10375 "/>
    <axis xyz="0 0 1"/>
    <limit effort="60000.8" lower="-2.78" upper="2.78" velocity="0.921533845"/>
    <dynamics damping="0.01" friction="0.0"/>
  </joint>
  <link name="left_wrist_spherical_2_link">
    <visual>
      <geometry>
        <mesh filename="movo_wrist_spherical_2.stl"/>
      </geometry>
    </visual>
    <collision>
      <geometry>
        <mesh filename="package://movo_description/meshes/manipulation/jaco/collision/wrist_spherical_2.stl"/>
      </geometry>
    </collision>
    <inertial>
      <mass value="0.463"/>
      <origin xyz="0 0.0497208855 -0.0028562765"/>
      <inertia ixx="0.000392" ixy="0.000000" ixz="0.000000" iyx="0.000000" iyy="0.000347" iyz="0.000101" izx="0.000000" izy="0.000101" izz="0.000233"/>
    </inertial>
  </link>
  <gazebo reference="left_wrist_spherical_2_link">
    <implicitSpringDamper>1</implicitSpringDamper>
    <kp>1000000.0</kp>
    <kd>100.0</kd>
    <mu1>1.0</mu1>
    <mu2>1.0</mu2>
    <maxVel>100.0</maxVel>
    <minDepth>0.001</minDepth>
  </gazebo>
  <joint name="left_wrist_3_joint" type="revolute">
    <parent link="left_wrist_spherical_2_link"/>
    <child link="left_wrist_3_link"/>
    <origin rpy="1.570796325 3.14159265 0" xyz="0 0.10375 0"/>
    <axis xyz="0 0 1"/>
    <limit effort="60000.8" lower="-3.14159265" upper="3.14159265" velocity="0.921533845"/>
    <dynamics damping="0.01" friction="0.0"/>
  </joint>
  <link name="left_wrist_3_link">
    <visual>
      <geometry>
        <mesh filename="movo_kinova_actuator_gearing.stl"/>
      </geometry>
    </visual>
    <collision>
      <geometry>
        <mesh filename="package://movo_description/meshes/manipulation/jaco/collision/kinova_actuator_gearing.stl"/>
      </geometry>
    </collision>
    <inertial>
      <mass value="0.190782"/>
      <origin xyz="-0.00082 0.000048 -0.216121"/>
      <inertia ixx="0.000048" ixy="0.000000" ixz="0.000000" iyx="0.000000" iyy="0.000049" iyz="0.000000" izx="0.000000" izy="0.000000" izz="0.000072"/>
    </inertial>
  </link>
  <gazebo reference="left_wrist_3_link">
    <implicitSpringDamper>1</implicitSpringDamper>
    <kp>1000000.0</kp>
    <kd>100.0</kd>
    <mu1>1.0</mu1>
    <mu2>1.0</mu2>
    <maxVel>100.0</maxVel>
    <minDepth>0.001</minDepth>
  </gazebo>
  <joint name="left_ee_fixed_joint" type="fixed">
    <parent link="left_wrist_3_link"/>
    <child link="left_ee_link"/>
    <origin rpy="3.14159265 1.570796325 0" xyz="0 0 -0.1600"/>
  </joint>
  <link name="left_ee_link"/>
  <transmission name="left_shoulder_pan_trans">
    <type>transmission_interface/SimpleTransmission</type>
    <joint name="left_shoulder_pan_joint">
      <hardwareInterface>PositionJointInterface</hardwareInterface>
    </joint>
    <actuator name="left_shoulder_pan_motor">
      <mechanicalReduction>1</mechanicalReduction>
    </actuator>
  </transmission>
  <transmission name="left_shoulder_lift_trans">
    <type>transmission_interface/SimpleTransmission</type>
    <joint name="left_shoulder_lift_joint">
      <hardwareInterface>PositionJointInterface</hardwareInterface>
    </joint>
    <actuator name="left_shoulder_lift_motor">
      <mechanicalReduction>1</mechanicalReduction>
    </actuator>
  </transmission>
  <transmission name="left_half_arm_trans">
    <type>transmission_interface/SimpleTransmission</type>
    <joint name="left_arm_half_joint">
      <hardwareInterface>PositionJointInterface</hardwareInterface>
    </joint>
    <actuator name="left_arm_half_motor">
      <mechanicalReduction>1</mechanicalReduction>
    </actuator>
  </transmission>
  <transmission name="left_elbow_trans">
    <type>transmission_interface/SimpleTransmission</type>
    <joint name="left_elbow_joint">
      <hardwareInterface>PositionJointInterface</hardwareInterface>
    </joint>
    <actuator name="left_elbow_motor">
      <mechanicalReduction>1</mechanicalReduction>
    </actuator>
  </transmission>
  <transmission name="left_wrist_spherical_1_trans">
    <type>transmission_interface/SimpleTransmission</type>
    <joint name="left_wrist_spherical_1_joint">
      <hardwareInterface>PositionJointInterface</hardwareInterface>
    </joint>
    <actuator name="left_wrist_spherical_1_motor">
      <mechanicalReduction>1</mechanicalReduction>
    </actuator>
  </transmission>
  <transmission name="left_wrist_spherical_2_trans">
    <type>transmission_interface/SimpleTransmission</type>
    <joint name="left_wrist_spherical_2_joint">
      <hardwareInterface>PositionJointInterface</hardwareInterface>
    </joint>
    <actuator name="left_wrist_spherical_2_motor">
      <mechanicalReduction>1</mechanicalReduction>
    </actuator>
  </transmission>
  <transmission name="left_wrist_3_trans">
    <type>transmission_interface/SimpleTransmission</type>
    <joint name="left_wrist_3_joint">
      <hardwareInterface>PositionJointInterface</hardwareInterface>
    </joint>
    <actuator name="left_wrist_3_motor">
      <mechanicalReduction>1</mechanicalReduction>
    </actuator>
  </transmission>
  <joint name="right_kinova_robotiq_coupler_joint" type="fixed">
    <parent link="right_ee_link"/>
    <child link="right_robotiq_coupler_link"/>
    <origin rpy="-3.14159265 1.570796325 0" xyz="-0.16 0 0"/>
  </joint>
  <link name="right_robotiq_coupler_link">
    <visual>
      <geometry>
        <mesh filename="movo_kinova_robotiq_coupler.stl"/>
      </geometry>
    </visual>
    <collision>
      <geometry>
        <mesh filename="package://movo_description/meshes/manipulation/robotiq/collision/kinova_robotiq_coupler.stl"/>
      </geometry>
    </collision>
    <inertial>
      <mass value="0.1"/>
      <origin xyz="0.0 0.0 0.0"/>
      <inertia ixx="0.000001" ixy="0.000000" ixz="0.000000" iyx="0.000000" iyy="0.000001" iyz="0.000000" izx="0.000000" izy="0.000000" izz="0.000001"/>
    </inertial>
  </link>
  <gazebo reference="right_robotiq_coupler_link">
    <implicitSpringDamper>1</implicitSpringDamper>
    <mu1>100000</mu1>
    <mu2>100000</mu2>
    <kp>100000000.0</kp>
    <kd>1.0</kd>
  </gazebo>
  <joint name="right_gripper_base_joint" type="fixed">
    <parent link="right_robotiq_coupler_link"/>
    <child link="right_gripper_base_link"/>
    <origin rpy="-1.570796325 1.570796325 0.0" xyz="0 0 -0.05105"/>
  </joint>
  <link name="right_gripper_base_link">
    <visual>
      <geometry>
        <mesh filename="movo_robotiq_85_base_link.stl"/>
      </geometry>
    </visual>
    <collision>
      <geometry>
        <mesh filename="package://movo_description/meshes/manipulation/robotiq/collision/robotiq_85_base_link.stl"/>
      </geometry>
    </collision>
    <inertial>
      <mass value="0.636951"/>
      <origin xyz="0.0 0.0 0.0"/>
      <inertia ixx="0.000380" ixy="0.000000" ixz="0.000000" iyx="0.000000" iyy="0.001110" iyz="0.000000" izx="0.000000" izy="0.000000" izz="0.001171"/>
    </inertial>
  </link>
  <gazebo reference="right_gripper_base_link">
    <implicitSpringDamper>1</implicitSpringDamper>
    <mu1>100000</mu1>
    <mu2>100000</mu2>
    <kp>100000000.0</kp>
    <kd>1.0</kd>
  </gazebo>
  <joint name="right_gripper_finger1_joint" type="revolute">
    <parent link="right_gripper_base_link"/>
    <child link="right_gripper_finger1_knuckle_link"/>
    <axis xyz="0 0 1"/>
    <origin rpy="3.14159265 0.0 0.0" xyz="0.05490451627 0.03060114443 0.0"/>
    <limit effort="1000" lower="0.0" upper="0.804" velocity="2.0"/>
  </joint>
  <joint name="right_gripper_finger2_joint" type="revolute">
    <parent link="right_gripper_base_link"/>
    <child link="right_gripper_finger2_knuckle_link"/>
    <axis xyz="0 0 1"/>
    <origin rpy="0.0 0.0 0.0" xyz="0.05490451627 -0.03060114443 0.0"/>
    <limit effort="1000" lower="-3.14" upper="3.14" velocity="100.0"/>
    <mimic joint="right_gripper_finger1_joint"/>
  </joint>
  <link name="right_gripper_finger1_knuckle_link">
    <visual>
      <geometry>
        <mesh filename="movo_robotiq_85_knuckle_link.stl"/>
      </geometry>
    </visual>
    <collision>
      <geometry>
        <mesh filename="package://movo_description/meshes/manipulation/robotiq/collision/robotiq_85_knuckle_link.stl"/>
      </geometry>
    </collision>
    <inertial>
      <mass value="0.018491"/>
      <origin xyz="0.0 0.0 0.0"/>
      <inertia ixx="0.000009" ixy="-0.000001" ixz="0.000000" iyx="-0.000001" iyy="0.000001" iyz="0.000000" izx="0.000000" izy="0.000000" izz="0.000010"/>
    </inertial>
  </link>
  <gazebo reference="right_gripper_finger1_knuckle_link">
    <implicitSpringDamper>1</implicitSpringDamper>
    <mu1>100000</mu1>
    <mu2>100000</mu2>
    <kp>100000000.0</kp>
    <kd>1.0</kd>
  </gazebo>
  <link name="right_gripper_finger2_knuckle_link">
    <visual>
      <geometry>
        <mesh filename="movo_robotiq_85_knuckle_link.stl"/>
      </geometry>
    </visual>
    <collision>
      <geometry>
        <mesh filename="package://movo_description/meshes/manipulation/robotiq/collision/robotiq_85_knuckle_link.stl"/>
      </geometry>
    </collision>
    <inertial>
      <mass value="0.018491"/>
      <origin xyz="0.0 0.0 0.0"/>
      <inertia ixx="0.000009" ixy="-0.000001" ixz="0.000000" iyx="-0.000001" iyy="0.000001" iyz="0.000000" izx="0.000000" izy="0.000000" izz="0.000010"/>
    </inertial>
  </link>
  <gazebo reference="right_gripper_finger2_knuckle_link">
    <implicitSpringDamper>1</implicitSpringDamper>
    <mu1>100000</mu1>
    <mu2>100000</mu2>
    <kp>100000000.0</kp>
    <kd>1.0</kd>
  </gazebo>
  <joint name="right_gripper_finger1_finger_joint" type="fixed">
    <parent link="right_gripper_finger1_knuckle_link"/>
    <child link="right_gripper_finger1_finger_link"/>
    <origin rpy="0 0 0" xyz="-0.00408552455 -0.03148604435 0.0"/>
  </joint>
  <joint name="right_gripper_finger2_finger_joint" type="fixed">
    <parent link="right_gripper_finger2_knuckle_link"/>
    <child link="right_gripper_finger2_finger_link"/>
    <origin rpy="0 0 0" xyz="-0.00408552455 -0.03148604435 0.0"/>
  </joint>
  <link name="right_gripper_finger1_finger_link">
    <visual>
      <geometry>
        <mesh filename="movo_robotiq_85_finger_link.stl"/>
      </geometry>
    </visual>
    <collision>
      <geometry>
        <mesh filename="package://movo_description/meshes/manipulation/robotiq/collision/robotiq_85_finger_link.stl"/>
      </geometry>
    </collision>
    <inertial>
      <mass value="0.027309"/>
      <origin xyz="0.0 0.0 0.0"/>
      <inertia ixx="0.000003" ixy="-0.000002" ixz="0.000000" iyx="-0.000002" iyy="0.000021" iyz="0.000000" izx="0.000000" izy="0.000000" izz="0.000020"/>
    </inertial>
  </link>
  <gazebo reference="right_gripper_finger1_finger_link">
    <implicitSpringDamper>1</implicitSpringDamper>
    <mu1>100000</mu1>
    <mu2>100000</mu2>
    <kp>100000000.0</kp>
    <kd>1.0</kd>
  </gazebo>
  <link name="right_gripper_finger2_finger_link">
    <visual>
      <geometry>
        <mesh filename="movo_robotiq_85_finger_link.stl"/>
      </geometry>
    </visual>
    <collision>
      <geometry>
        <mesh filename="package://movo_description/meshes/manipulation/robotiq/collision/robotiq_85_finger_link.stl"/>
      </geometry>
    </collision>
    <inertial>
      <mass value="0.027309"/>
      <origin xyz="0.0 0.0 0.0"/>
      <inertia ixx="0.000003" ixy="-0.000002" ixz="0.000000" iyx="-0.000002" iyy="0.000021" iyz="0.000000" izx="0.000000" izy="0.000000" izz="0.000020"/>
    </inertial>
  </link>
  <gazebo reference="right_gripper_finger2_finger_link">
    <implicitSpringDamper>1</implicitSpringDamper>
    <mu1>100000</mu1>
    <mu2>100000</mu2>
    <kp>100000000.0</kp>
    <kd>1.0</kd>
  </gazebo>
  <joint name="right_gripper_finger1_inner_knuckle_joint" type="continuous">
    <parent link="right_gripper_base_link"/>
    <child link="right_gripper_finger1_inner_knuckle_link"/>
    <axis xyz="0 0 1"/>
    <origin rpy="3.14159265 0.0 0.0" xyz="0.06142 0.0127 0"/>
    <limit effort="0.1" lower="-3.14" upper="3.14" velocity="100.0"/>
    <mimic joint="right_gripper_finger1_joint" offset="0"/>
  </joint>
  <joint name="right_gripper_finger2_inner_knuckle_joint" type="continuous">
    <parent link="right_gripper_base_link"/>
    <child link="right_gripper_finger2_inner_knuckle_link"/>
    <axis xyz="0 0 1"/>
    <origin rpy="0 0 0" xyz="0.06142 -0.0127 0"/>
    <limit effort="0.1" lower="-3.14" upper="3.14" velocity="100.0"/>
    <mimic joint="right_gripper_finger1_joint" offset="0"/>
  </joint>
  <link name="right_gripper_finger1_inner_knuckle_link">
    <visual>
      <geometry>
        <mesh filename="movo_robotiq_85_inner_knuckle_link.stl"/>
      </geometry>
    </visual>
    <collision>
      <geometry>
        <mesh filename="package://movo_description/meshes/manipulation/robotiq/collision/robotiq_85_inner_knuckle_link.stl"/>
      </geometry>
    </collision>
    <inertial>
      <mass value="0.029951"/>
      <origin xyz="0.0 0.0 0.0"/>
      <inertia ixx="0.000039" ixy="0.000000" ixz="0.000000" iyx="0.000000" iyy="0.000005" iyz="0.000000" izx="0.000000" izy="0.000000" izz="0.000035"/>
    </inertial>
  </link>
  <gazebo reference="right_gripper_finger1_inner_knuckle_link">
    <implicitSpringDamper>1</implicitSpringDamper>
    <mu1>100000</mu1>
    <mu2>100000</mu2>
    <kp>100000000.0</kp>
    <kd>1.0</kd>
  </gazebo>
  <link name="right_gripper_finger2_inner_knuckle_link">
    <visual>
      <geometry>
        <mesh filename="movo_robotiq_85_inner_knuckle_link.stl"/>
      </geometry>
    </visual>
    <collision>
      <geometry>
        <mesh filename="package://movo_description/meshes/manipulation/robotiq/collision/robotiq_85_inner_knuckle_link.stl"/>
      </geometry>
    </collision>
    <inertial>
      <mass value="0.029951"/>
      <origin xyz="0.0 0.0 0.0"/>
      <inertia ixx="0.000039" ixy="0.000000" ixz="0.000000" iyx="0.000000" iyy="0.000005" iyz="0.000000" izx="0.000000" izy="0.000000" izz="0.000035"/>
    </inertial>
  </link>
  <gazebo reference="right_gripper_finger2_inner_knuckle_link">
    <implicitSpringDamper>1</implicitSpringDamper>
    <mu1>100000</mu1>
    <mu2>100000</mu2>
    <kp>100000000.0</kp>
    <kd>1.0</kd>
  </gazebo>
  <joint name="right_gripper_finger1_finger_tip_joint" type="continuous">
    <parent link="right_gripper_finger1_inner_knuckle_link"/>
    <child link="right_gripper_finger1_finger_tip_link"/>
    <axis xyz="0 0 1"/>
    <origin rpy="0.0 0.0 0.0" xyz="0.04303959807 -0.03759940821 0.0"/>
    <limit effort="0.1" lower="-3.14" upper="3.14" velocity="100.0"/>
    <mimic joint="right_gripper_finger1_joint" multiplier="-1"/>
  </joint>
  <joint name="right_gripper_finger2_finger_tip_joint" type="continuous">
    <parent link="right_gripper_finger2_inner_knuckle_link"/>
    <child link="right_gripper_finger2_finger_tip_link"/>
    <axis xyz="0 0 1"/>
    <origin rpy="0.0 0.0 0.0" xyz="0.04303959807 -0.03759940821  0.0"/>
    <limit effort="0.1" lower="-3.14" upper="3.14" velocity="100.0"/>
    <mimic joint="right_gripper_finger1_joint" multiplier="-1"/>
  </joint>
  <link name="right_gripper_finger1_finger_tip_link">
    <visual>
      <geometry>
        <mesh filename="movo_robotiq_85_finger_tip_link.stl"/>
      </geometry>
    </visual>
    <collision>
      <geometry>
        <mesh filename="package://movo_description/meshes/manipulation/robotiq/collision/robotiq_85_finger_tip_link.stl"/>
      </geometry>
    </collision>
    <inertial>
      <mass value="0.019555"/>
      <origin xyz="0.0 0.0 0.0"/>
      <inertia ixx="0.000002" ixy="0.000000" ixz="0.000000" iyx="0.000000" iyy="0.000005" iyz="0.000000" izx="0.000000" izy="0.000000" izz="0.000006"/>
    </inertial>
  </link>
  <gazebo reference="right_gripper_finger1_finger_tip_link">
    <implicitSpringDamper>1</implicitSpringDamper>
    <mu1>100000</mu1>
    <mu2>100000</mu2>
    <kp>100000000.0</kp>
    <kd>1.0</kd>
  </gazebo>
  <link name="right_gripper_finger2_finger_tip_link">
    <visual>
      <geometry>
        <mesh filename="movo_robotiq_85_finger_tip_link.stl"/>
      </geometry>
    </visual>
    <collision>
      <geometry>
        <mesh filename="package://movo_description/meshes/manipulation/robotiq/collision/robotiq_85_finger_tip_link.stl"/>
      </geometry>
    </collision>
    <inertial>
      <mass value="0.019555"/>
      <origin xyz="0.0 0.0 0.0"/>
      <inertia ixx="0.000002" ixy="0.000000" ixz="0.000000" iyx="0.000000" iyy="0.000005" iyz="0.000000" izx="0.000000" izy="0.000000" izz="0.000006"/>
    </inertial>
  </link>
  <gazebo reference="right_gripper_finger2_finger_tip_link">
    <implicitSpringDamper>1</implicitSpringDamper>
    <mu1>100000</mu1>
    <mu2>100000</mu2>
    <kp>100000000.0</kp>
    <kd>1.0</kd>
  </gazebo>
  <transmission name="right_gripper_finger1_trans">
    <type>transmission_interface/SimpleTransmission</type>
    <joint name="right_gripper_finger1_joint">
      <hardwareInterface>PositionJointInterface</hardwareInterface>
    </joint>
    <actuator name="right_gripper_finger1_motor">
      <mechanicalReduction>1</mechanicalReduction>
      <hardwareInterface>PositionJointInterface</hardwareInterface>
    </actuator>
  </transmission>
  <gazebo>
    <!-- loading plugin: mimic joints works in gazebo now -->
    <plugin filename="libroboticsgroup_gazebo_mimic_joint_plugin.so" name="right_mimic_robotiq_85_1">
      <joint>right_gripper_finger1_joint</joint>
      <mimicJoint>right_gripper_finger2_joint</mimicJoint>
      <!--multiplier>1.0</multiplier>
                <offset>0.0</offset-->
    </plugin>
    <plugin filename="libroboticsgroup_gazebo_mimic_joint_plugin.so" name="right_mimic_robotiq_85_2">
      <joint>right_gripper_finger1_joint</joint>
      <mimicJoint>right_gripper_finger2_inner_knuckle_joint</mimicJoint>
      <!--multiplier>1.0</multiplier>
                <offset>0.0</offset-->
    </plugin>
    <plugin filename="libroboticsgroup_gazebo_mimic_joint_plugin.so" name="right_mimic_robotiq_85_3">
      <joint>right_gripper_finger1_joint</joint>
      <mimicJoint>right_gripper_finger1_inner_knuckle_joint</mimicJoint>
      <!--multiplier>1.0</multiplier>
                <offset>0.0</offset-->
    </plugin>
    <plugin filename="libroboticsgroup_gazebo_mimic_joint_plugin.so" name="right_mimic_robotiq_85_4">
      <joint>right_gripper_finger1_joint</joint>
      <mimicJoint>right_gripper_finger1_finger_tip_joint</mimicJoint>
      <multiplier>-1.0</multiplier>
      <offset>0.0</offset>
    </plugin>
    <plugin filename="libroboticsgroup_gazebo_mimic_joint_plugin.so" name="right_mimic_robotiq_85_5">
      <joint>right_gripper_finger1_joint</joint>
      <mimicJoint>right_gripper_finger2_finger_tip_joint</mimicJoint>
      <multiplier>-1.0</multiplier>
      <offset>0.0</offset>
    </plugin>
  </gazebo>
  <joint name="left_kinova_robotiq_coupler_joint" type="fixed">
    <parent link="left_ee_link"/>
    <child link="left_robotiq_coupler_link"/>
    <origin rpy="-3.14159265 1.570796325 0" xyz="-0.16 0 0"/>
  </joint>
  <link name="left_robotiq_coupler_link">
    <visual>
      <geometry>
        <mesh filename="movo_kinova_robotiq_coupler.stl"/>
      </geometry>
    </visual>
    <collision>
      <geometry>
        <mesh filename="package://movo_description/meshes/manipulation/robotiq/collision/kinova_robotiq_coupler.stl"/>
      </geometry>
    </collision>
    <inertial>
      <mass value="0.1"/>
      <origin xyz="0.0 0.0 0.0"/>
      <inertia ixx="0.000001" ixy="0.000000" ixz="0.000000" iyx="0.000000" iyy="0.000001" iyz="0.000000" izx="0.000000" izy="0.000000" izz="0.000001"/>
    </inertial>
  </link>
  <gazebo reference="left_robotiq_coupler_link">
    <implicitSpringDamper>1</implicitSpringDamper>
    <mu1>100000</mu1>
    <mu2>100000</mu2>
    <kp>100000000.0</kp>
    <kd>1.0</kd>
  </gazebo>
  <joint name="left_gripper_base_joint" type="fixed">
    <parent link="left_robotiq_coupler_link"/>
    <child link="left_gripper_base_link"/>
    <origin rpy="-1.570796325 1.570796325 0.0" xyz="0 0 -0.05105"/>
  </joint>
  <link name="left_gripper_base_link">
    <visual>
      <geometry>
        <mesh filename="movo_robotiq_85_base_link.stl"/>
      </geometry>
    </visual>
    <collision>
      <geometry>
        <mesh filename="package://movo_description/meshes/manipulation/robotiq/collision/robotiq_85_base_link.stl"/>
      </geometry>
    </collision>
    <inertial>
      <mass value="0.636951"/>
      <origin xyz="0.0 0.0 0.0"/>
      <inertia ixx="0.000380" ixy="0.000000" ixz="0.000000" iyx="0.000000" iyy="0.001110" iyz="0.000000" izx="0.000000" izy="0.000000" izz="0.001171"/>
    </inertial>
  </link>
  <gazebo reference="left_gripper_base_link">
    <implicitSpringDamper>1</implicitSpringDamper>
    <mu1>100000</mu1>
    <mu2>100000</mu2>
    <kp>100000000.0</kp>
    <kd>1.0</kd>
  </gazebo>
  <joint name="left_gripper_finger1_joint" type="revolute">
    <parent link="left_gripper_base_link"/>
    <child link="left_gripper_finger1_knuckle_link"/>
    <axis xyz="0 0 1"/>
    <origin rpy="3.14159265 0.0 0.0" xyz="0.05490451627 0.03060114443 0.0"/>
    <limit effort="1000" lower="0.0" upper="0.804" velocity="2.0"/>
  </joint>
  <joint name="left_gripper_finger2_joint" type="revolute">
    <parent link="left_gripper_base_link"/>
    <child link="left_gripper_finger2_knuckle_link"/>
    <axis xyz="0 0 1"/>
    <origin rpy="0.0 0.0 0.0" xyz="0.05490451627 -0.03060114443 0.0"/>
    <limit effort="1000" lower="-3.14" upper="3.14" velocity="100.0"/>
    <mimic joint="left_gripper_finger1_joint"/>
  </joint>
  <link name="left_gripper_finger1_knuckle_link">
    <visual>
      <geometry>
        <mesh filename="movo_robotiq_85_knuckle_link.stl"/>
      </geometry>
    </visual>
    <collision>
      <geometry>
        <mesh filename="package://movo_description/meshes/manipulation/robotiq/collision/robotiq_85_knuckle_link.stl"/>
      </geometry>
    </collision>
    <inertial>
      <mass value="0.018491"/>
      <origin xyz="0.0 0.0 0.0"/>
      <inertia ixx="0.000009" ixy="-0.000001" ixz="0.000000" iyx="-0.000001" iyy="0.000001" iyz="0.000000" izx="0.000000" izy="0.000000" izz="0.000010"/>
    </inertial>
  </link>
  <gazebo reference="left_gripper_finger1_knuckle_link">
    <implicitSpringDamper>1</implicitSpringDamper>
    <mu1>100000</mu1>
    <mu2>100000</mu2>
    <kp>100000000.0</kp>
    <kd>1.0</kd>
  </gazebo>
  <link name="left_gripper_finger2_knuckle_link">
    <visual>
      <geometry>
        <mesh filename="movo_robotiq_85_knuckle_link.stl"/>
      </geometry>
    </visual>
    <collision>
      <geometry>
        <mesh filename="package://movo_description/meshes/manipulation/robotiq/collision/robotiq_85_knuckle_link.stl"/>
      </geometry>
    </collision>
    <inertial>
      <mass value="0.018491"/>
      <origin xyz="0.0 0.0 0.0"/>
      <inertia ixx="0.000009" ixy="-0.000001" ixz="0.000000" iyx="-0.000001" iyy="0.000001" iyz="0.000000" izx="0.000000" izy="0.000000" izz="0.000010"/>
    </inertial>
  </link>
  <gazebo reference="left_gripper_finger2_knuckle_link">
    <implicitSpringDamper>1</implicitSpringDamper>
    <mu1>100000</mu1>
    <mu2>100000</mu2>
    <kp>100000000.0</kp>
    <kd>1.0</kd>
  </gazebo>
  <joint name="left_gripper_finger1_finger_joint" type="fixed">
    <parent link="left_gripper_finger1_knuckle_link"/>
    <child link="left_gripper_finger1_finger_link"/>
    <origin rpy="0 0 0" xyz="-0.00408552455 -0.03148604435 0.0"/>
  </joint>
  <joint name="left_gripper_finger2_finger_joint" type="fixed">
    <parent link="left_gripper_finger2_knuckle_link"/>
    <child link="left_gripper_finger2_finger_link"/>
    <origin rpy="0 0 0" xyz="-0.00408552455 -0.03148604435 0.0"/>
  </joint>
  <link name="left_gripper_finger1_finger_link">
    <visual>
      <geometry>
        <mesh filename="movo_robotiq_85_finger_link.stl"/>
      </geometry>
    </visual>
    <collision>
      <geometry>
        <mesh filename="package://movo_description/meshes/manipulation/robotiq/collision/robotiq_85_finger_link.stl"/>
      </geometry>
    </collision>
    <inertial>
      <mass value="0.027309"/>
      <origin xyz="0.0 0.0 0.0"/>
      <inertia ixx="0.000003" ixy="-0.000002" ixz="0.000000" iyx="-0.000002" iyy="0.000021" iyz="0.000000" izx="0.000000" izy="0.000000" izz="0.000020"/>
    </inertial>
  </link>
  <gazebo reference="left_gripper_finger1_finger_link">
    <implicitSpringDamper>1</implicitSpringDamper>
    <mu1>100000</mu1>
    <mu2>100000</mu2>
    <kp>100000000.0</kp>
    <kd>1.0</kd>
  </gazebo>
  <link name="left_gripper_finger2_finger_link">
    <visual>
      <geometry>
        <mesh filename="movo_robotiq_85_finger_link.stl"/>
      </geometry>
    </visual>
    <collision>
      <geometry>
        <mesh filename="package://movo_description/meshes/manipulation/robotiq/collision/robotiq_85_finger_link.stl"/>
      </geometry>
    </collision>
    <inertial>
      <mass value="0.027309"/>
      <origin xyz="0.0 0.0 0.0"/>
      <inertia ixx="0.000003" ixy="-0.000002" ixz="0.000000" iyx="-0.000002" iyy="0.000021" iyz="0.000000" izx="0.000000" izy="0.000000" izz="0.000020"/>
    </inertial>
  </link>
  <gazebo reference="left_gripper_finger2_finger_link">
    <implicitSpringDamper>1</implicitSpringDamper>
    <mu1>100000</mu1>
    <mu2>100000</mu2>
    <kp>100000000.0</kp>
    <kd>1.0</kd>
  </gazebo>
  <joint name="left_gripper_finger1_inner_knuckle_joint" type="continuous">
    <parent link="left_gripper_base_link"/>
    <child link="left_gripper_finger1_inner_knuckle_link"/>
    <axis xyz="0 0 1"/>
    <origin rpy="3.14159265 0.0 0.0" xyz="0.06142 0.0127 0"/>
    <limit effort="0.1" lower="-3.14" upper="3.14" velocity="100.0"/>
    <mimic joint="left_gripper_finger1_joint" offset="0"/>
  </joint>
  <joint name="left_gripper_finger2_inner_knuckle_joint" type="continuous">
    <parent link="left_gripper_base_link"/>
    <child link="left_gripper_finger2_inner_knuckle_link"/>
    <axis xyz="0 0 1"/>
    <origin rpy="0 0 0" xyz="0.06142 -0.0127 0"/>
    <limit effort="0.1" lower="-3.14" upper="3.14" velocity="100.0"/>
    <mimic joint="left_gripper_finger1_joint" offset="0"/>
  </joint>
  <link name="left_gripper_finger1_inner_knuckle_link">
    <visual>
      <geometry>
        <mesh filename="movo_robotiq_85_inner_knuckle_link.stl"/>
      </geometry>
    </visual>
    <collision>
      <geometry>
        <mesh filename="package://movo_description/meshes/manipulation/robotiq/collision/robotiq_85_inner_knuckle_link.stl"/>
      </geometry>
    </collision>
    <inertial>
      <mass value="0.029951"/>
      <origin xyz="0.0 0.0 0.0"/>
      <inertia ixx="0.000039" ixy="0.000000" ixz="0.000000" iyx="0.000000" iyy="0.000005" iyz="0.000000" izx="0.000000" izy="0.000000" izz="0.000035"/>
    </inertial>
  </link>
  <gazebo reference="left_gripper_finger1_inner_knuckle_link">
    <implicitSpringDamper>1</implicitSpringDamper>
    <mu1>100000</mu1>
    <mu2>100000</mu2>
    <kp>100000000.0</kp>
    <kd>1.0</kd>
  </gazebo>
  <link name="left_gripper_finger2_inner_knuckle_link">
    <visual>
      <geometry>
        <mesh filename="movo_robotiq_85_inner_knuckle_link.stl"/>
      </geometry>
    </visual>
    <collision>
      <geometry>
        <mesh filename="package://movo_description/meshes/manipulation/robotiq/collision/robotiq_85_inner_knuckle_link.stl"/>
      </geometry>
    </collision>
    <inertial>
      <mass value="0.029951"/>
      <origin xyz="0.0 0.0 0.0"/>
      <inertia ixx="0.000039" ixy="0.000000" ixz="0.000000" iyx="0.000000" iyy="0.000005" iyz="0.000000" izx="0.000000" izy="0.000000" izz="0.000035"/>
    </inertial>
  </link>
  <gazebo reference="left_gripper_finger2_inner_knuckle_link">
    <implicitSpringDamper>1</implicitSpringDamper>
    <mu1>100000</mu1>
    <mu2>100000</mu2>
    <kp>100000000.0</kp>
    <kd>1.0</kd>
  </gazebo>
  <joint name="left_gripper_finger1_finger_tip_joint" type="continuous">
    <parent link="left_gripper_finger1_inner_knuckle_link"/>
    <child link="left_gripper_finger1_finger_tip_link"/>
    <axis xyz="0 0 1"/>
    <origin rpy="0.0 0.0 0.0" xyz="0.04303959807 -0.03759940821 0.0"/>
    <limit effort="0.1" lower="-3.14" upper="3.14" velocity="100.0"/>
    <mimic joint="left_gripper_finger1_joint" multiplier="-1"/>
  </joint>
  <joint name="left_gripper_finger2_finger_tip_joint" type="continuous">
    <parent link="left_gripper_finger2_inner_knuckle_link"/>
    <child link="left_gripper_finger2_finger_tip_link"/>
    <axis xyz="0 0 1"/>
    <origin rpy="0.0 0.0 0.0" xyz="0.04303959807 -0.03759940821  0.0"/>
    <limit effort="0.1" lower="-3.14" upper="3.14" velocity="100.0"/>
    <mimic joint="left_gripper_finger1_joint" multiplier="-1"/>
  </joint>
  <link name="left_gripper_finger1_finger_tip_link">
    <visual>
      <geometry>
        <mesh filename="movo_robotiq_85_finger_tip_link.stl"/>
      </geometry>
    </visual>
    <collision>
      <geometry>
        <mesh filename="package://movo_description/meshes/manipulation/robotiq/collision/robotiq_85_finger_tip_link.stl"/>
      </geometry>
    </collision>
    <inertial>
      <mass value="0.019555"/>
      <origin xyz="0.0 0.0 0.0"/>
      <inertia ixx="0.000002" ixy="0.000000" ixz="0.000000" iyx="0.000000" iyy="0.000005" iyz="0.000000" izx="0.000000" izy="0.000000" izz="0.000006"/>
    </inertial>
  </link>
  <gazebo reference="left_gripper_finger1_finger_tip_link">
    <implicitSpringDamper>1</implicitSpringDamper>
    <mu1>100000</mu1>
    <mu2>100000</mu2>
    <kp>100000000.0</kp>
    <kd>1.0</kd>
  </gazebo>
  <link name="left_gripper_finger2_finger_tip_link">
    <visual>
      <geometry>
        <mesh filename="movo_robotiq_85_finger_tip_link.stl"/>
      </geometry>
    </visual>
    <collision>
      <geometry>
        <mesh filename="package://movo_description/meshes/manipulation/robotiq/collision/robotiq_85_finger_tip_link.stl"/>
      </geometry>
    </collision>
    <inertial>
      <mass value="0.019555"/>
      <origin xyz="0.0 0.0 0.0"/>
      <inertia ixx="0.000002" ixy="0.000000" ixz="0.000000" iyx="0.000000" iyy="0.000005" iyz="0.000000" izx="0.000000" izy="0.000000" izz="0.000006"/>
    </inertial>
  </link>
  <gazebo reference="left_gripper_finger2_finger_tip_link">
    <implicitSpringDamper>1</implicitSpringDamper>
    <mu1>100000</mu1>
    <mu2>100000</mu2>
    <kp>100000000.0</kp>
    <kd>1.0</kd>
  </gazebo>
  <transmission name="left_gripper_finger1_trans">
    <type>transmission_interface/SimpleTransmission</type>
    <joint name="left_gripper_finger1_joint">
      <hardwareInterface>PositionJointInterface</hardwareInterface>
    </joint>
    <actuator name="left_gripper_finger1_motor">
      <mechanicalReduction>1</mechanicalReduction>
      <hardwareInterface>PositionJointInterface</hardwareInterface>
    </actuator>
  </transmission>
  <gazebo>
    <!-- loading plugin: mimic joints works in gazebo now -->
    <plugin filename="libroboticsgroup_gazebo_mimic_joint_plugin.so" name="left_mimic_robotiq_85_1">
      <joint>left_gripper_finger1_joint</joint>
      <mimicJoint>left_gripper_finger2_joint</mimicJoint>
      <!--multiplier>1.0</multiplier>
                <offset>0.0</offset-->
    </plugin>
    <plugin filename="libroboticsgroup_gazebo_mimic_joint_plugin.so" name="left_mimic_robotiq_85_2">
      <joint>left_gripper_finger1_joint</joint>
      <mimicJoint>left_gripper_finger2_inner_knuckle_joint</mimicJoint>
      <!--multiplier>1.0</multiplier>
                <offset>0.0</offset-->
    </plugin>
    <plugin filename="libroboticsgroup_gazebo_mimic_joint_plugin.so" name="left_mimic_robotiq_85_3">
      <joint>left_gripper_finger1_joint</joint>
      <mimicJoint>left_gripper_finger1_inner_knuckle_joint</mimicJoint>
      <!--multiplier>1.0</multiplier>
                <offset>0.0</offset-->
    </plugin>
    <plugin filename="libroboticsgroup_gazebo_mimic_joint_plugin.so" name="left_mimic_robotiq_85_4">
      <joint>left_gripper_finger1_joint</joint>
      <mimicJoint>left_gripper_finger1_finger_tip_joint</mimicJoint>
      <multiplier>-1.0</multiplier>
      <offset>0.0</offset>
    </plugin>
    <plugin filename="libroboticsgroup_gazebo_mimic_joint_plugin.so" name="left_mimic_robotiq_85_5">
      <joint>left_gripper_finger1_joint</joint>
      <mimicJoint>left_gripper_finger2_finger_tip_joint</mimicJoint>
      <multiplier>-1.0</multiplier>
      <offset>0.0</offset>
    </plugin>
  </gazebo>
</robot>
